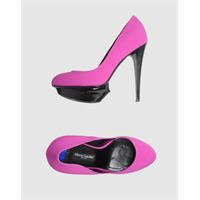shoe: (52, 16, 148, 103), (46, 135, 156, 176)
